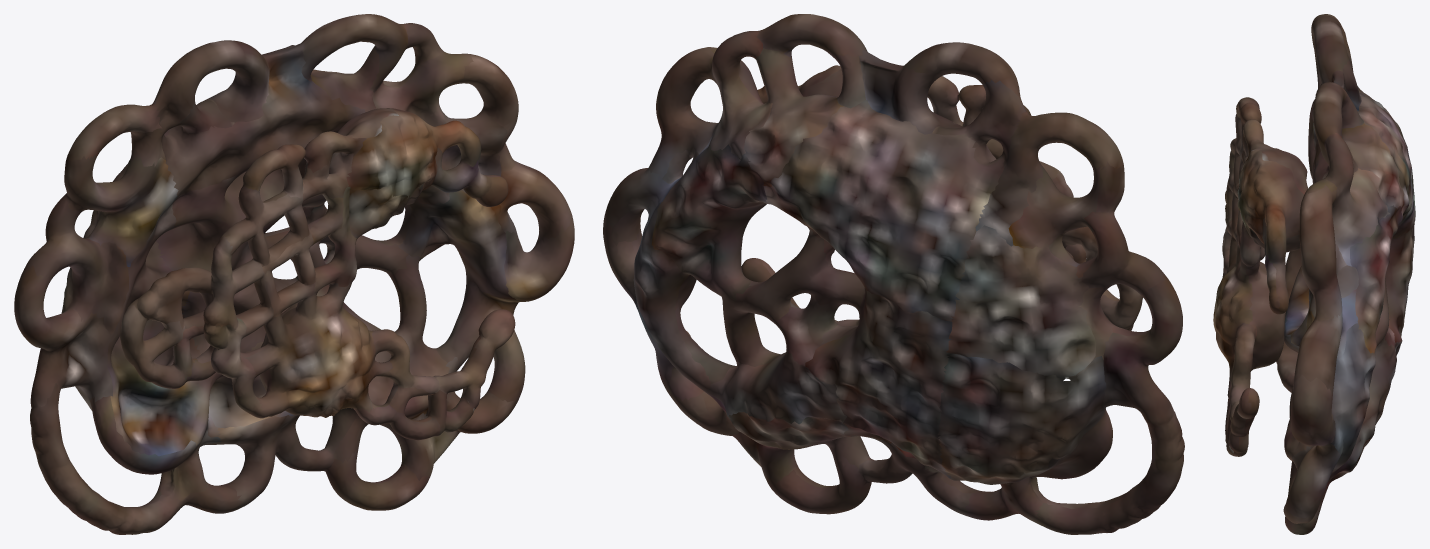
Rendered from rest-fischernetz.glb.
3 renders of one model, left to right at view 1: azimuth 30°, elevation 25°; view 2: azimuth 150°, elevation 25°; view 3: azimuth 270°, elevation 25°, orthographic. The views are drawn at different scales.
Parts seen in each view (by area): view 1: rest-fischernetz; view 2: rest-fischernetz; view 3: rest-fischernetz.
Part boxes in pixels (x1,y1,x2,y2): rest-fischernetz: [14, 14, 574, 534]; rest-fischernetz: [603, 14, 1184, 534]; rest-fischernetz: [1213, 14, 1415, 534].
Bounding box in the file's own units: 0.1171 × 0.1003 × 0.0419.
1 material, 1 textured.
